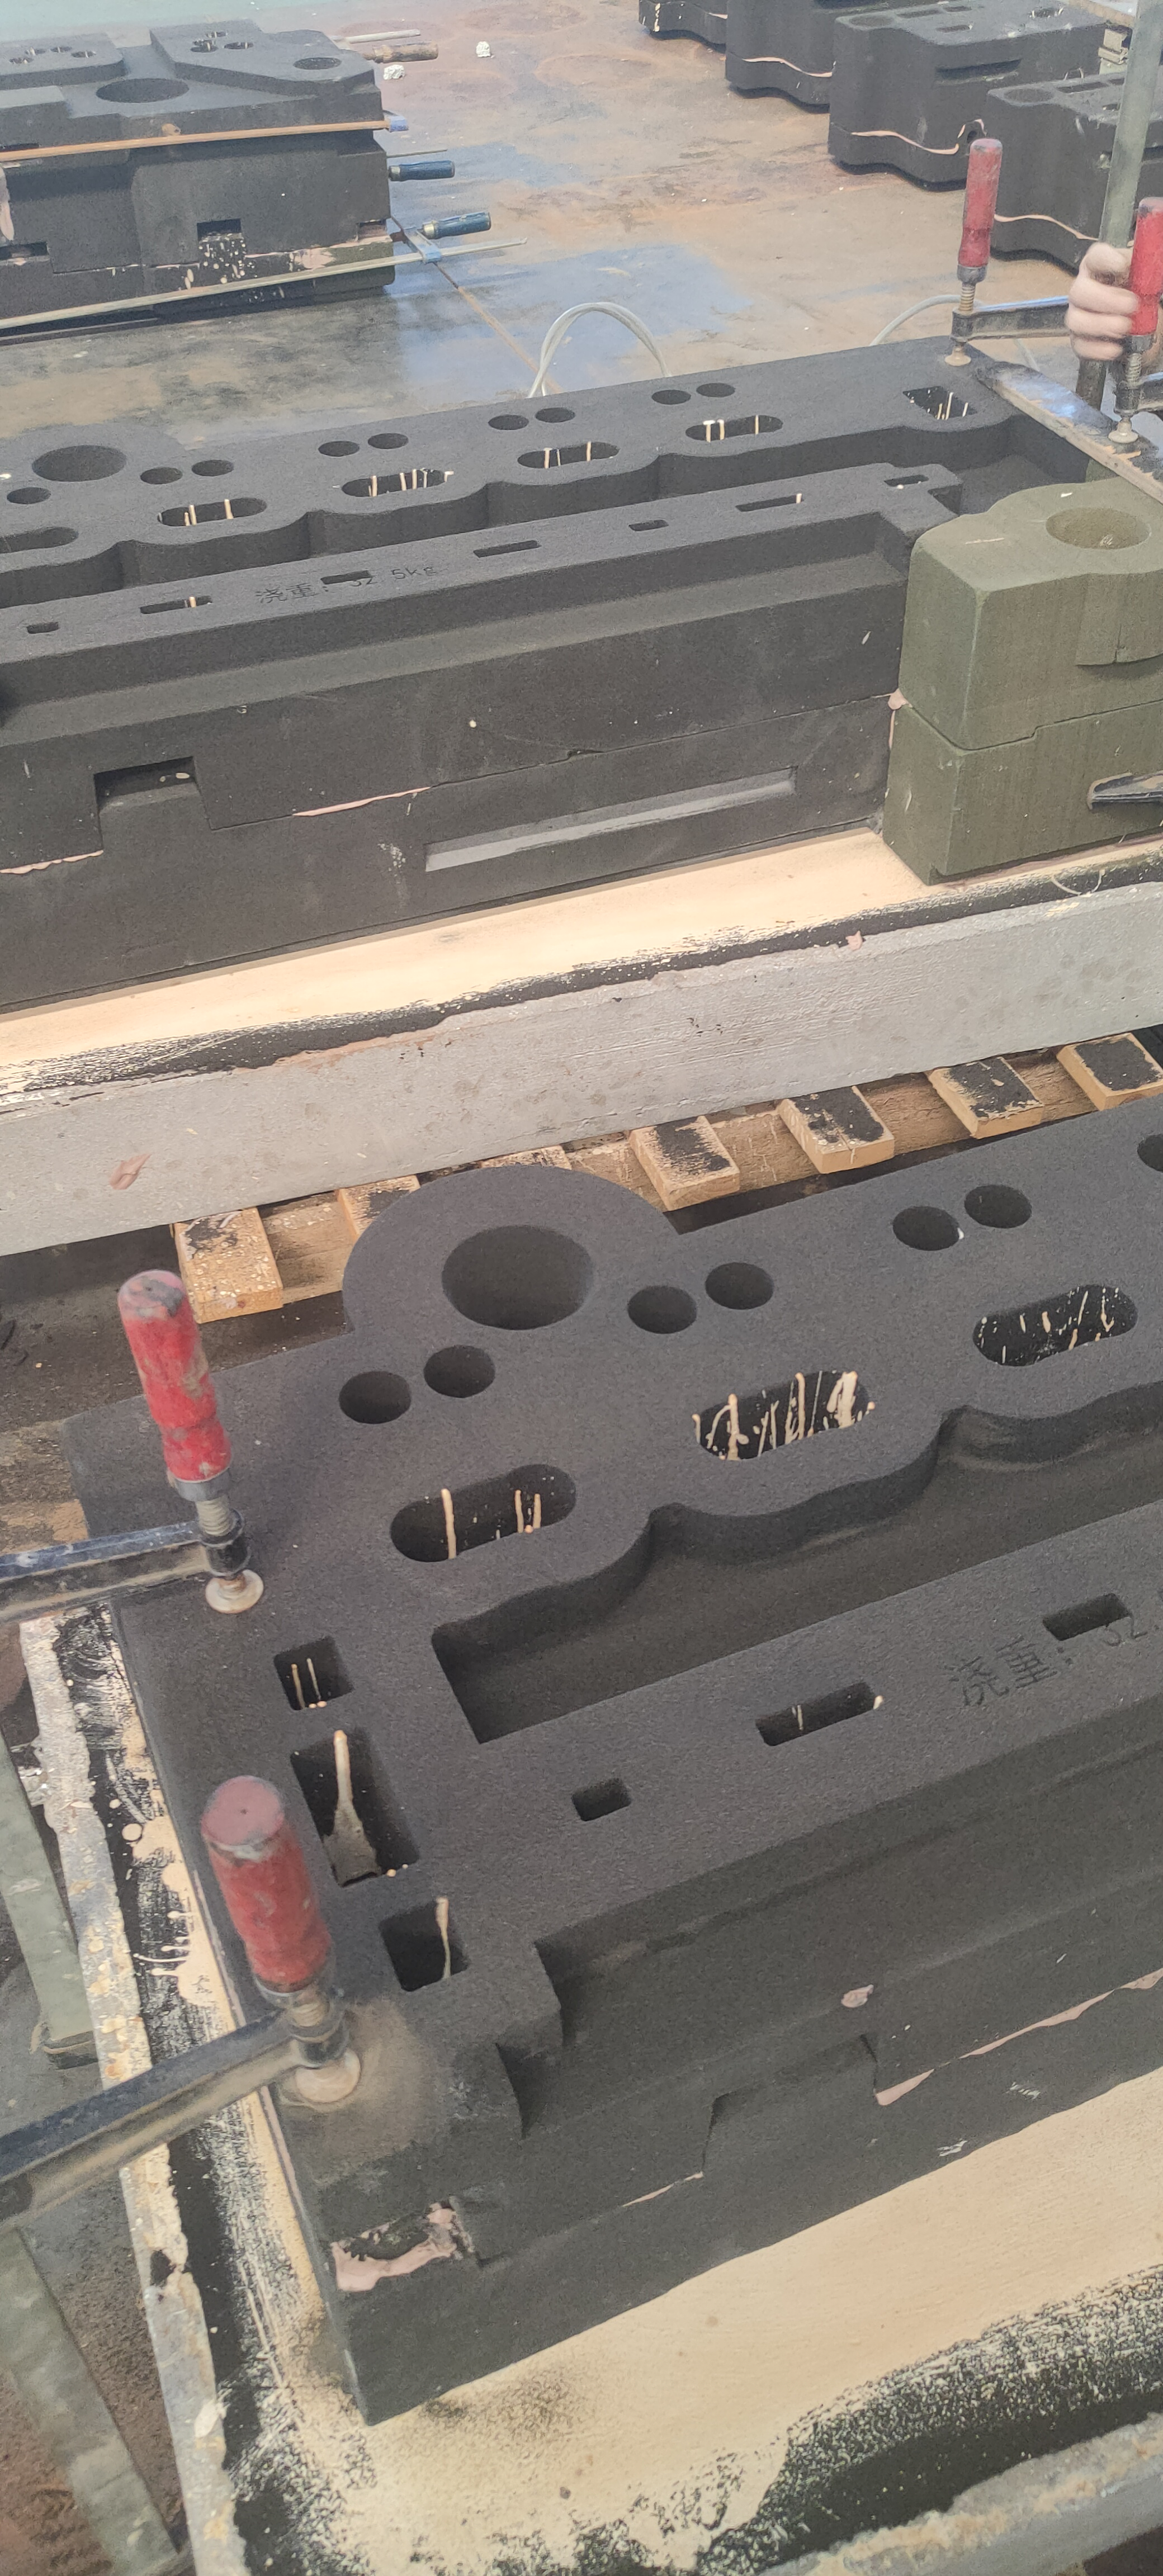pouring hole: (445, 1224, 601, 1332), (1045, 506, 1152, 552), (33, 445, 130, 481), (1002, 87, 1055, 103), (292, 56, 342, 71), (848, 15, 899, 28)
